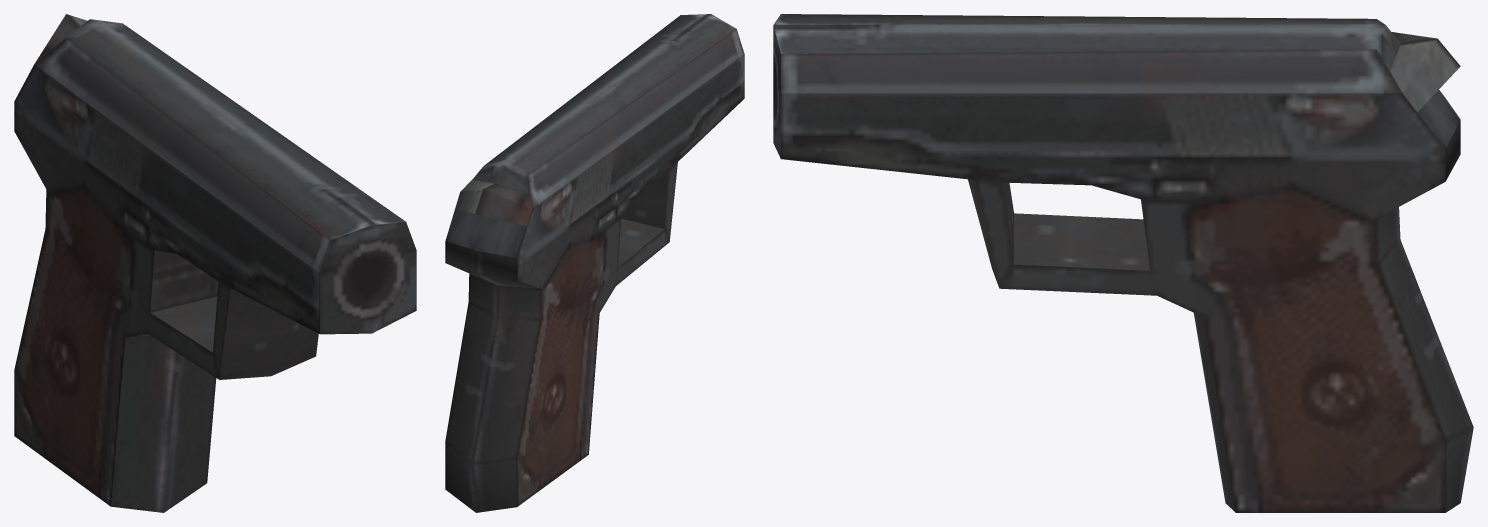
The model's file is bz_wp_handgun_01.fbx.
The picture shows the model from 3 angles, left to right: view 1: azimuth 30°, elevation 25°; view 2: azimuth 150°, elevation 25°; view 3: azimuth 270°, elevation 25°; orthographic projection. The views are drawn at different scales.
Parts seen in each view (by area): view 1: bz_wp_handgun_01; view 2: bz_wp_handgun_01; view 3: bz_wp_handgun_01.
Part boxes in pixels (box(x1,y1,x2,y2)): bz_wp_handgun_01: box(14, 14, 416, 512); bz_wp_handgun_01: box(445, 14, 744, 512); bz_wp_handgun_01: box(773, 14, 1473, 512).
Size of the model in its own units: 0.0376 by 0.1637 by 0.2174.
